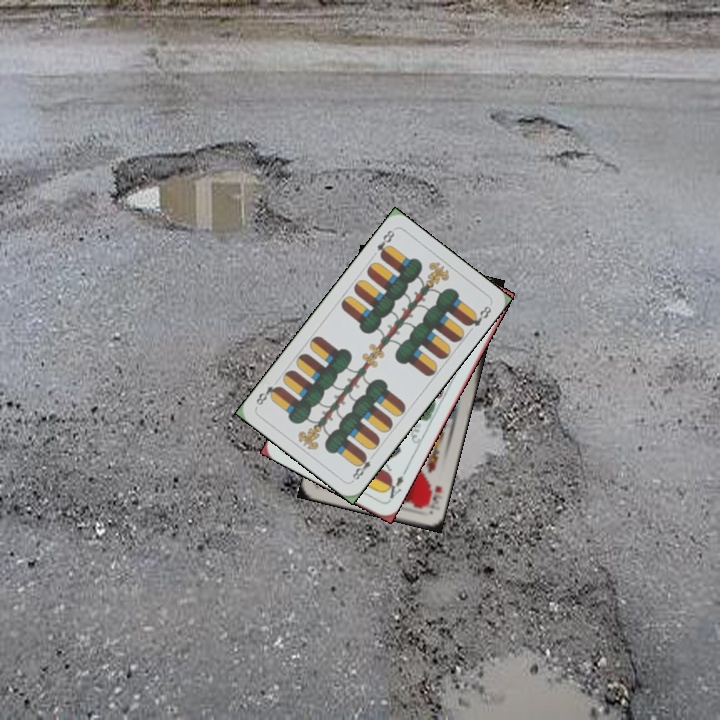E8: (348, 449, 378, 484), (373, 226, 397, 261)
EA: (380, 471, 406, 501)
HK: (423, 481, 445, 510)
